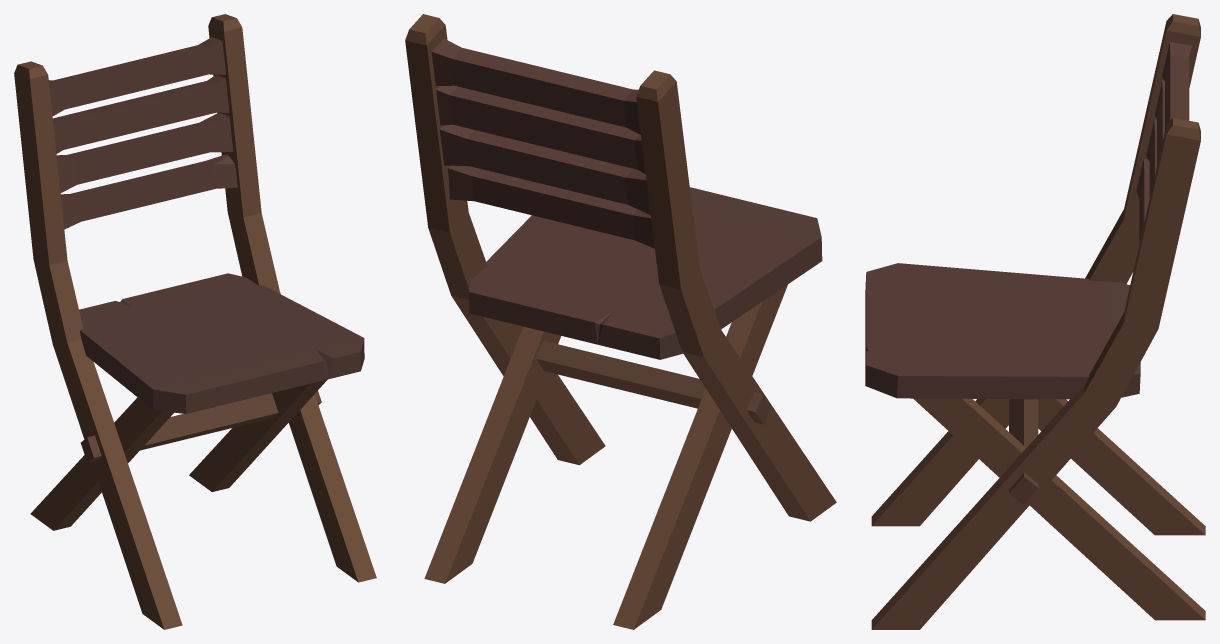
File: PP_Chair3.fbx
The picture shows the model from 3 angles, left to right: view 1: azimuth 30°, elevation 25°; view 2: azimuth 150°, elevation 25°; view 3: azimuth 270°, elevation 25°; orthographic projection. The views are drawn at different scales.
Visible parts, largest first — view 1: Chair_03; view 2: Chair_03; view 3: Chair_03.
Boxes of the visible parts, x1,y1,x2,y2 form: Chair_03: [14, 14, 376, 629]; Chair_03: [405, 14, 836, 629]; Chair_03: [865, 14, 1205, 629].
Size of the model in its own units: 50.28 by 96.94 by 59.35.
